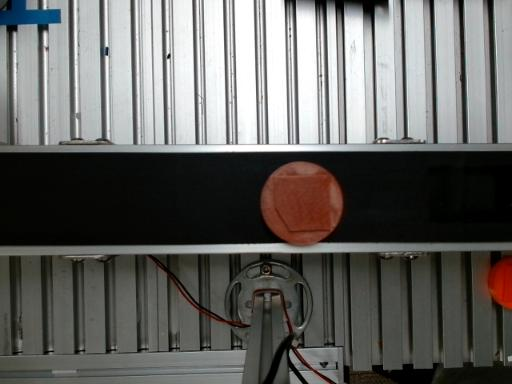Brown_Waper: (261, 162, 343, 244)
Not_Square: (274, 174, 331, 231)
